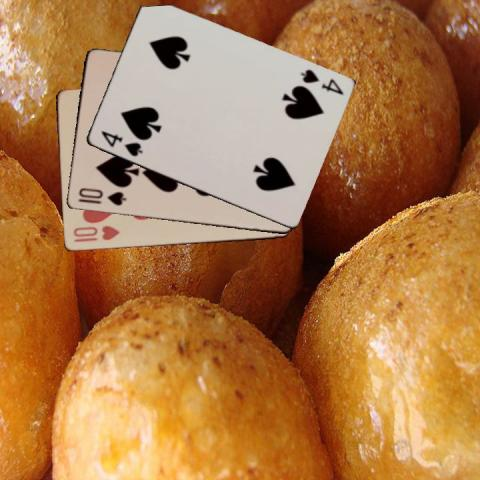10h: (70, 223, 121, 244)
10s: (75, 185, 127, 207)
4s: (297, 66, 344, 97), (97, 128, 144, 158)
